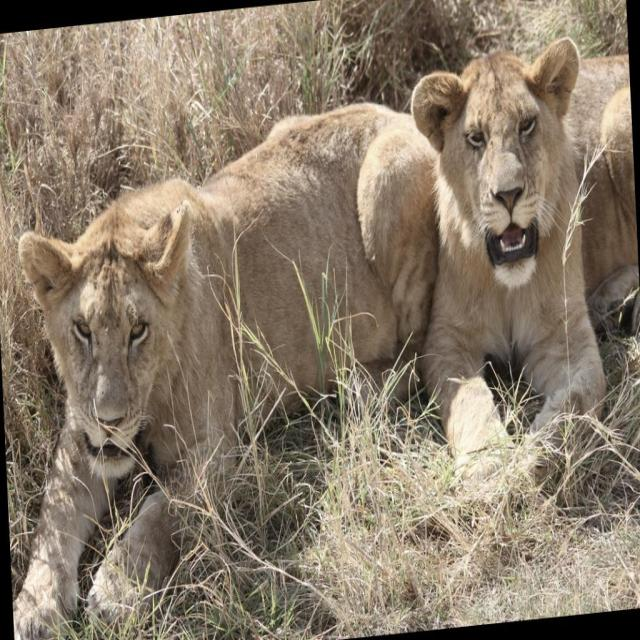Lion: (0, 93, 461, 639), (405, 30, 639, 497)
